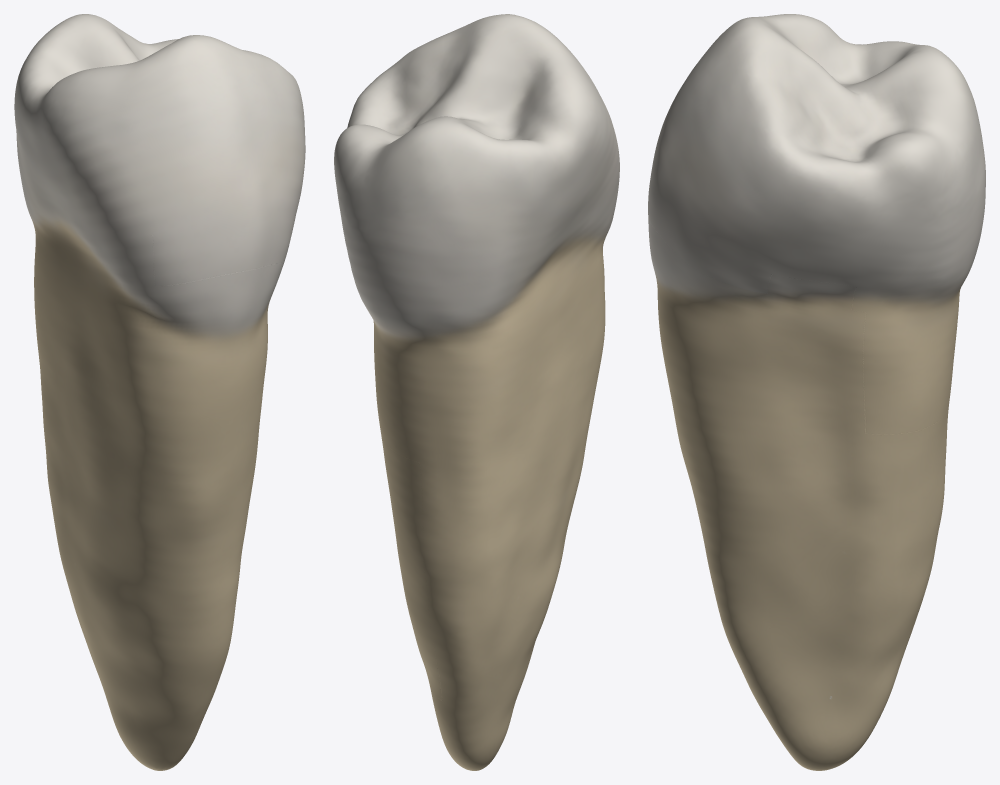
3 views of the same model, side by side, from view 1: azimuth 30°, elevation 25°; view 2: azimuth 150°, elevation 25°; view 3: azimuth 270°, elevation 25° (orthographic). The views are drawn at different scales.
Parts seen in each view (by area): view 1: t35; view 2: t35; view 3: t35.
Boxes of the visible parts, x1,y1,x2,y2 form: t35: (14,14,305,770); t35: (334,14,619,770); t35: (648,14,985,770).
Size of the model in its own units: 7.59 by 22.5 by 9.25.
1 material, 1 textured.
